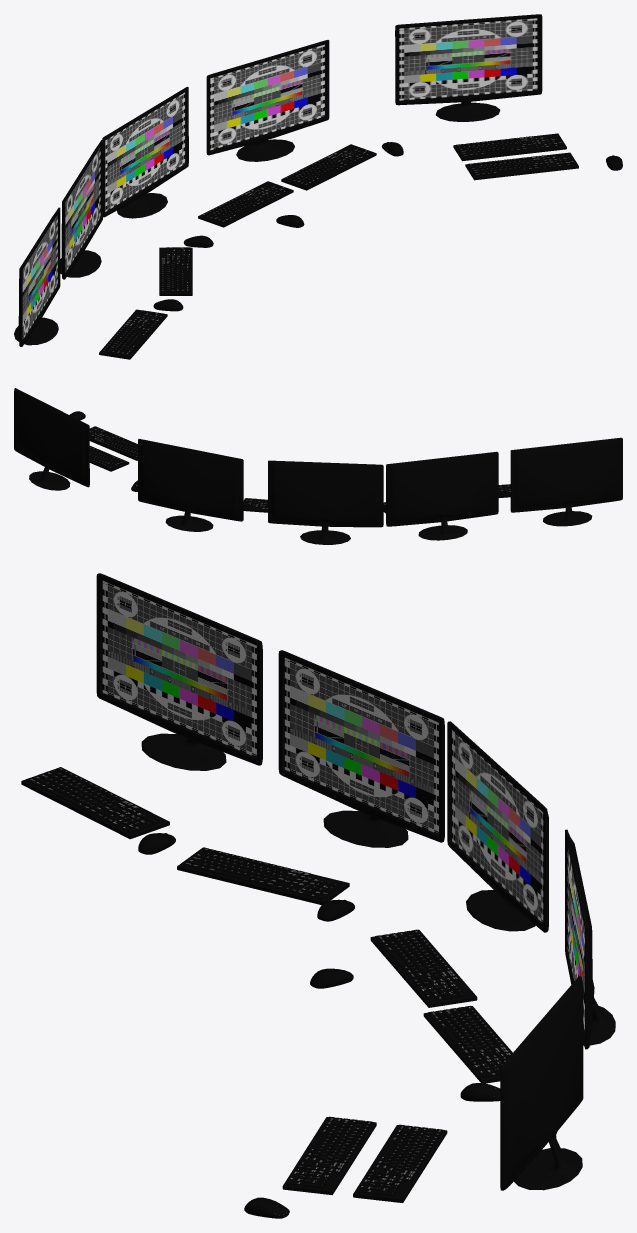
Rendered from ComputersGroup00.glb.
3 renders of one model, top to bottom at view 1: azimuth 30°, elevation 25°; view 2: azimuth 150°, elevation 25°; view 3: azimuth 270°, elevation 25°, orthographic. The views are drawn at different scales.
Visible parts, largest first — view 1: Display_flat002 (×5), Monitor_flat003 (×5), Keyboard (×6); view 2: Monitor_flat003 (×5), Keyboard (×3); view 3: Display_flat002 (×4), Monitor_flat003 (×5), Keyboard (×6).
Boxes of the visible parts, box(x1,y1,x2,y2) form: Display_flat002 (×5): box(22, 18, 538, 339); Monitor_flat003 (×5): box(14, 14, 542, 346); Keyboard (×6): box(99, 133, 578, 359); Monitor_flat003 (×5): box(14, 388, 622, 544); Keyboard (×3): box(89, 426, 267, 512); Display_flat002 (×4): box(102, 580, 584, 1031); Monitor_flat003 (×5): box(96, 573, 615, 1190); Keyboard (×6): box(21, 767, 512, 1202).
Bounding box in the file's own units: 2.87 × 0.3954 × 1.44.
4 materials, 2 textured.
